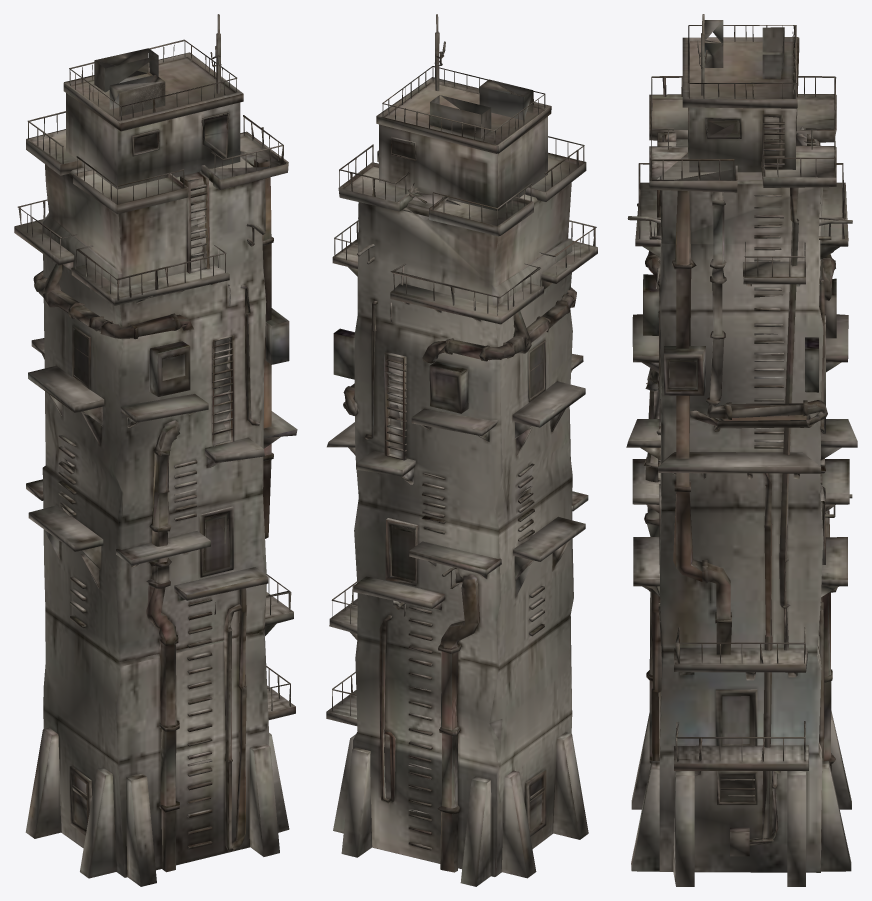
File: climbtower.glb
3 renders of one model, left to right at view 1: azimuth 30°, elevation 25°; view 2: azimuth 150°, elevation 25°; view 3: azimuth 270°, elevation 25°, orthographic. The views are drawn at different scales.
Size of the model in its own units: 0.2568 by 0.9521 by 0.2363.
Materials: 1 (1 with a texture image).
